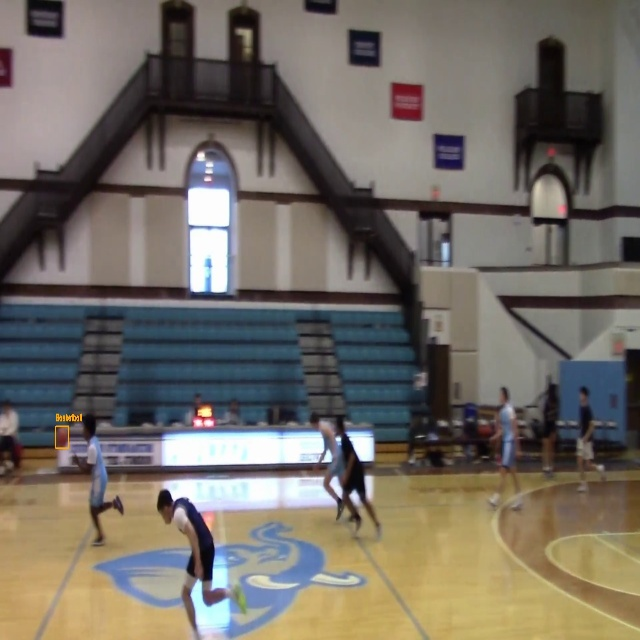Basketball: (56, 427, 69, 448)
